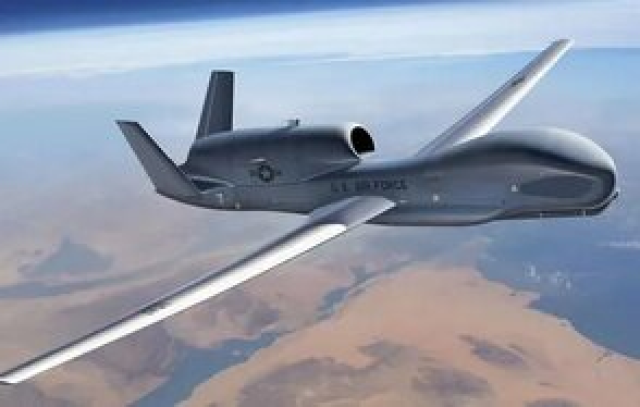military drone: (0, 39, 620, 384)
